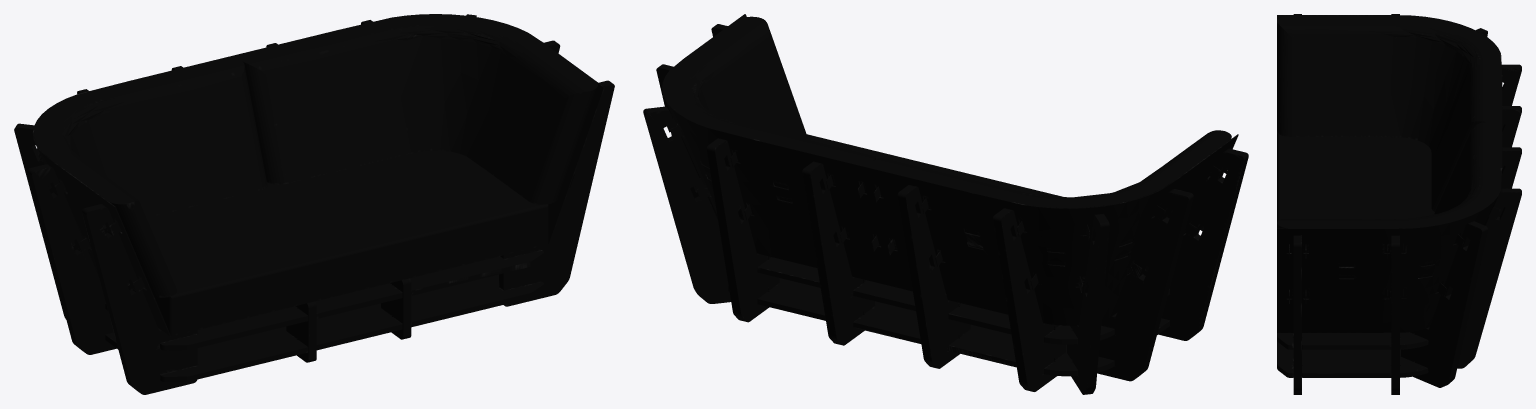
3 renders of one model, left to right at view 1: azimuth 30°, elevation 25°; view 2: azimuth 150°, elevation 25°; view 3: azimuth 270°, elevation 25°, orthographic. The views are drawn at different scales.
Visible parts, largest first — view 1: node_id3; view 2: node_id3; view 3: node_id3.
Part boxes in pixels (<box>): node_id3: <box>14,14,614,394</box>; node_id3: <box>643,14,1248,394</box>; node_id3: <box>1277,14,1521,394</box>.
Bounding box in the file's own units: 0.512 × 0.1892 × 0.2294.
1 material, 1 textured.
